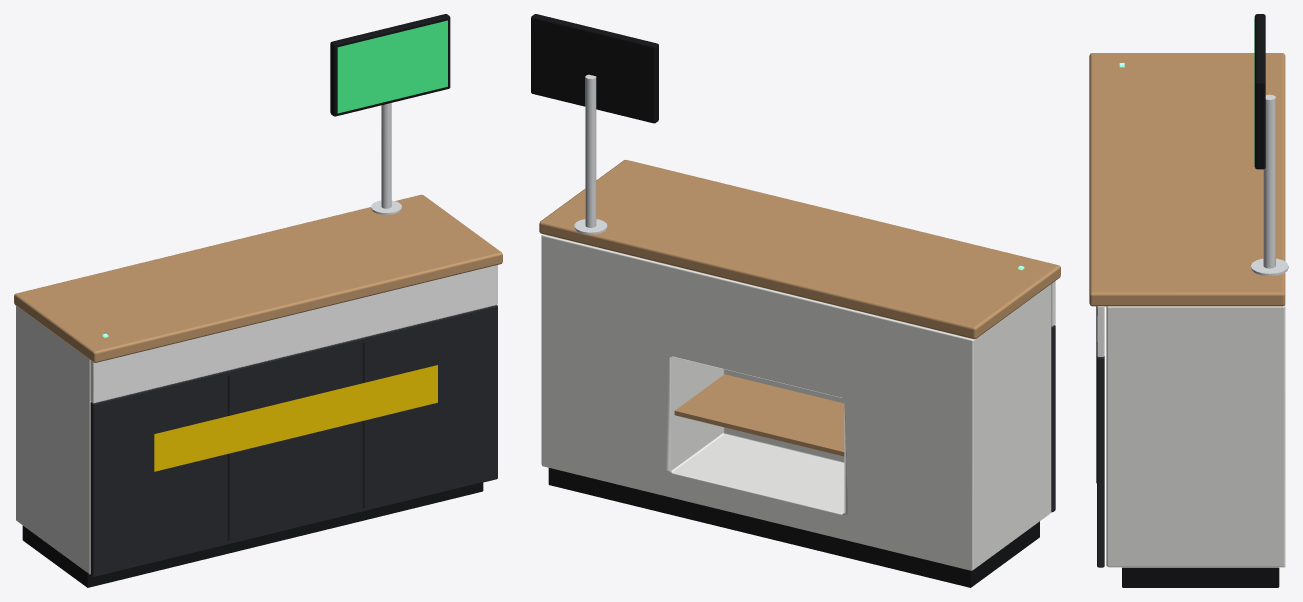
Rendered from pickup-counter.glb.
3 views of the same model, side by side, from view 1: azimuth 30°, elevation 25°; view 2: azimuth 150°, elevation 25°; view 3: azimuth 270°, elevation 25° (orthographic). The views are drawn at different scales.
Parts seen in each view (by area): view 1: BODY, LABEL, SCREEN; view 2: BODY; view 3: BODY.
Part boxes in pixels (x1,y1,x2,y2): BODY: (14, 14, 502, 587); LABEL: (154, 365, 437, 471); SCREEN: (337, 20, 447, 113); BODY: (531, 14, 1060, 587); BODY: (1089, 14, 1288, 587).
Size of the model in its own units: 1.89 by 1.82 by 0.6341.
